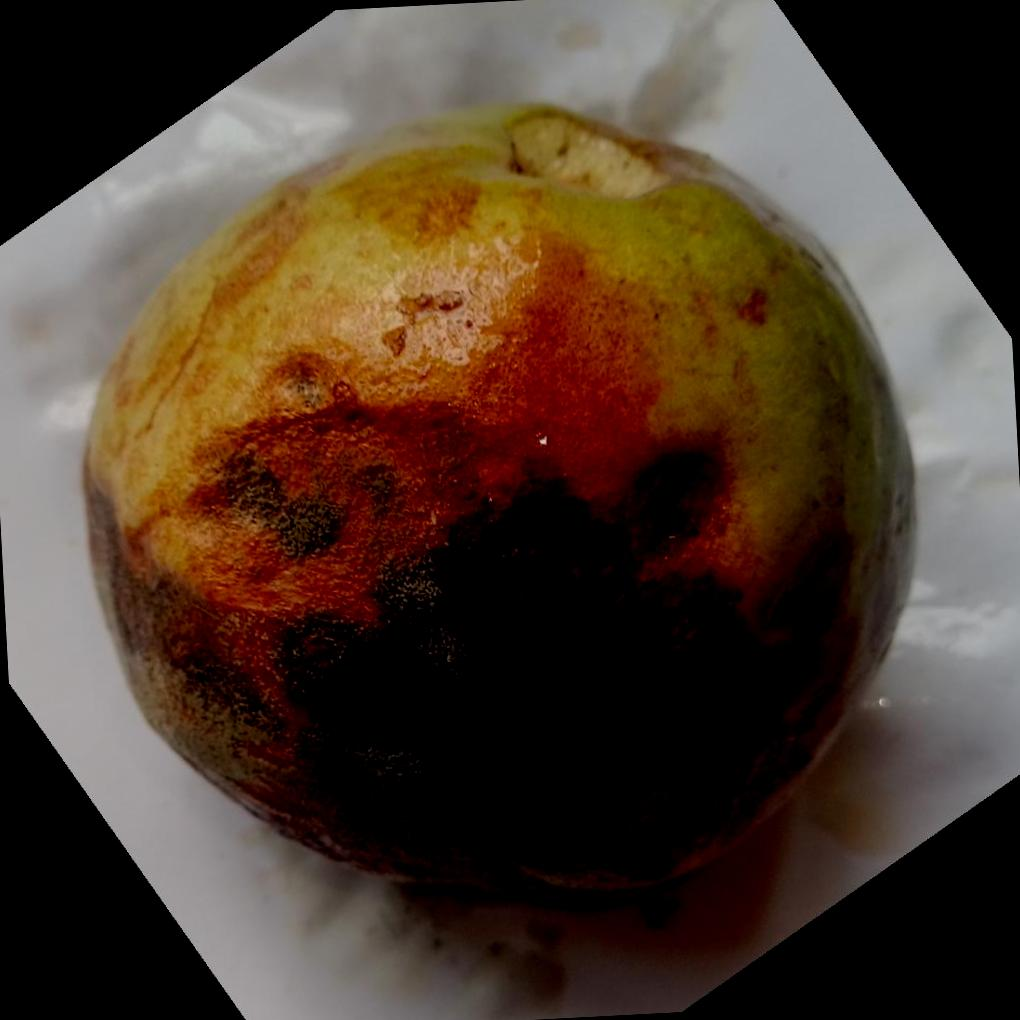FreshOrange: (84, 99, 919, 907)
